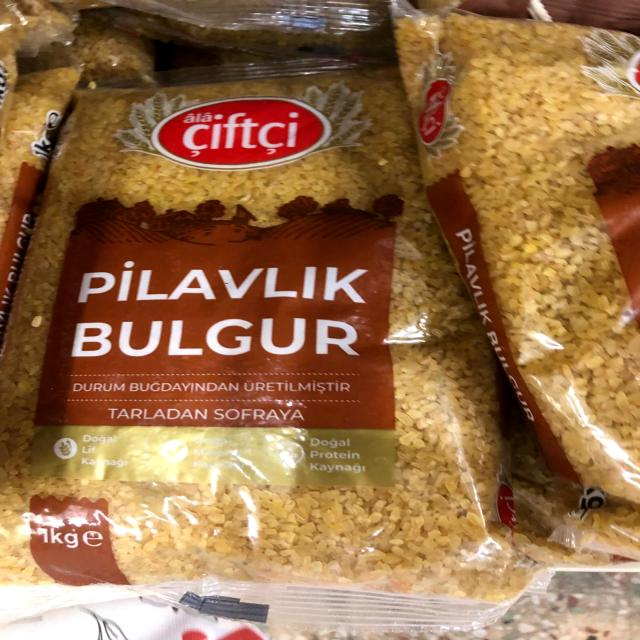bulgur: (0, 63, 491, 594)
